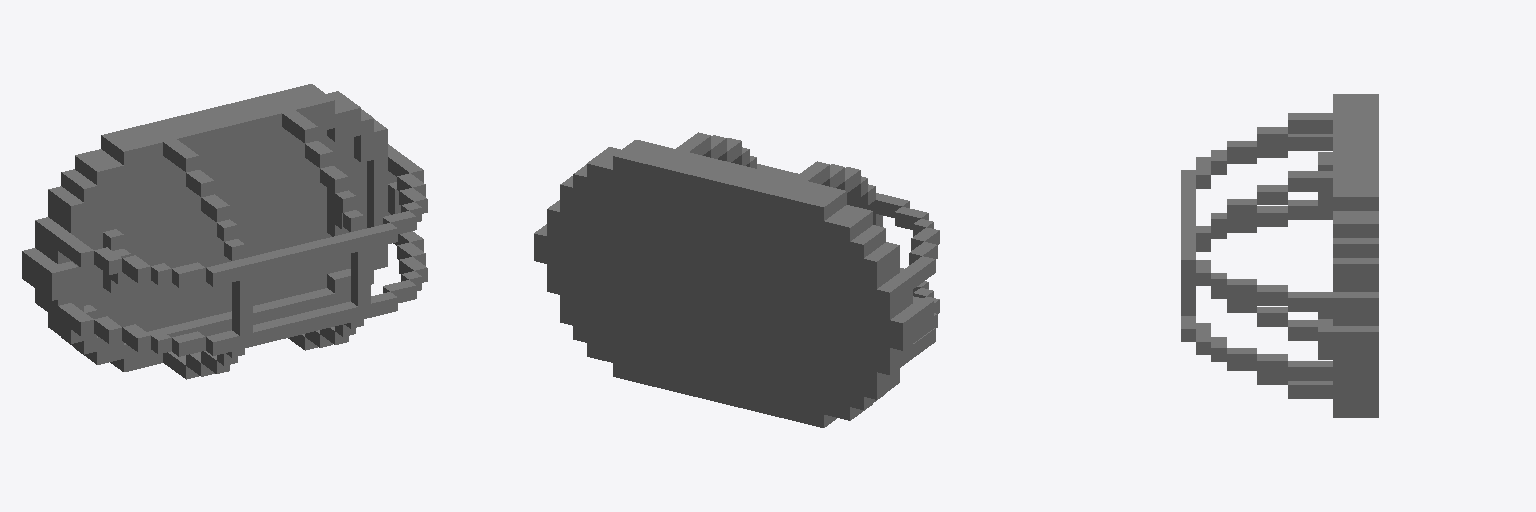
3 renders of one model, left to right at view 1: azimuth 30°, elevation 25°; view 2: azimuth 150°, elevation 25°; view 3: azimuth 270°, elevation 25°, orthographic.
Visible parts, largest first — view 1: object 1; view 2: object 1; view 3: object 1.
Part boxes in pixels (x1,y1,x2,y2): object 1: (22, 84, 427, 379); object 1: (534, 132, 939, 427); object 1: (1181, 94, 1378, 417).
Bounding box in the file's own units: 2.8 × 1.6 × 1.3.
1 materials, 1 textured.